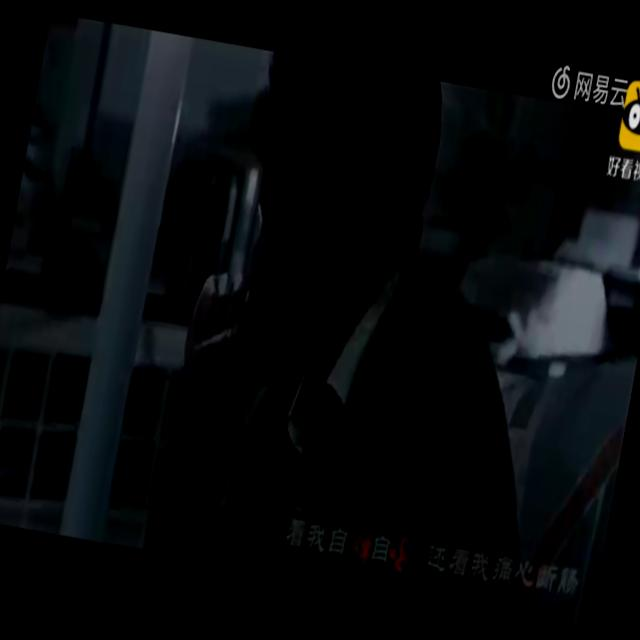cigarette: (188, 317, 243, 362)
